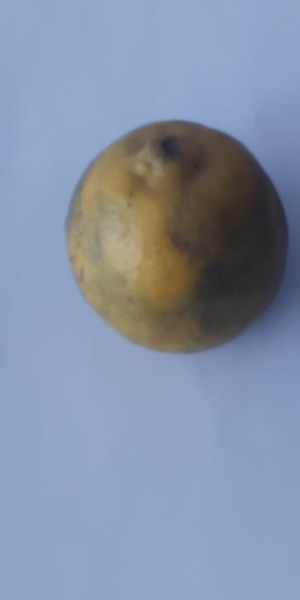BAD: (70, 122, 289, 354)
